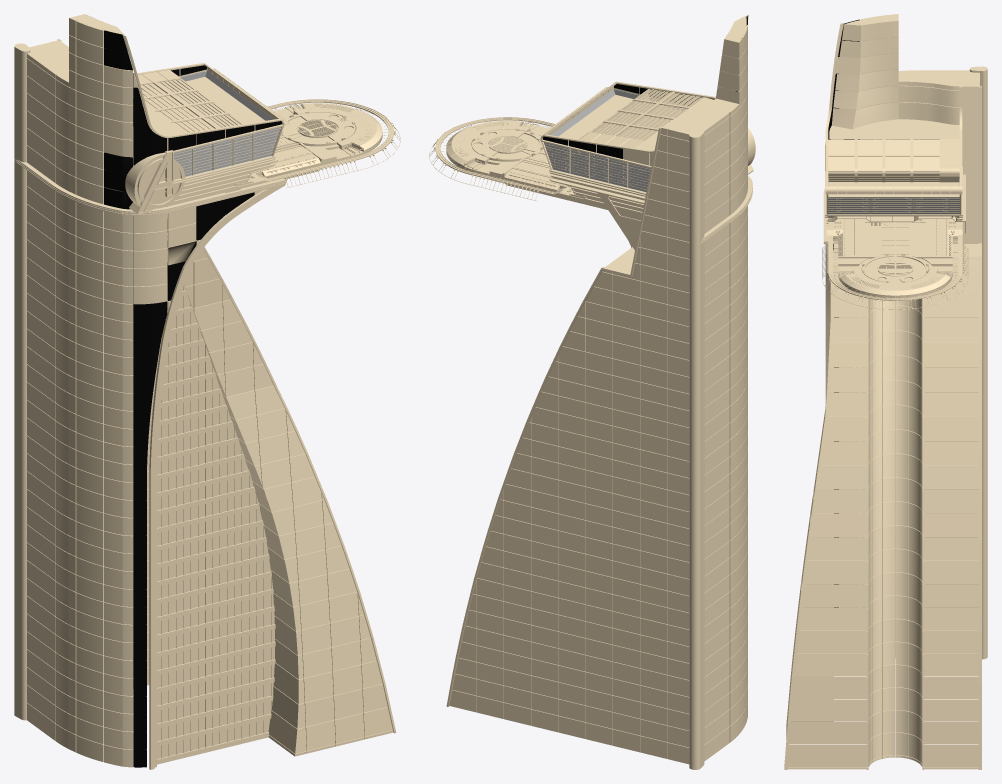
Rendered from Avengers Tower 001.fbx.
3 renders of one model, left to right at view 1: azimuth 30°, elevation 25°; view 2: azimuth 150°, elevation 25°; view 3: azimuth 270°, elevation 25°, orthographic. The views are drawn at different scales.
Visible parts, largest first — view 1: Shape174, Rectangle021, Shape183, Shape184, Shape219, Shape186, Shape160, Shape198, Shape165, Shape221, Rectangle023, Mesh006 (+12 smaller); view 2: Rectangle023, Shape174, Shape219, Shape221, Shape195, Shape160, Shape200, Shape198, Shape201, Shape155, Mesh006, Shape021 (+5 smaller); view 3: Shape195, Shape189, Shape221, Shape160, Shape219, Shape198, Shape186, Mesh001, Shape174, Shape155, Shape060, Shape021 (+17 smaller).
Boxes of the visible parts, bbox=[...] form: Shape174: bbox=[27, 17, 281, 767]; Rectangle021: bbox=[184, 249, 393, 756]; Shape183: bbox=[157, 285, 275, 764]; Shape184: bbox=[157, 287, 274, 758]; Shape219: bbox=[14, 43, 30, 720]; Shape186: bbox=[149, 177, 396, 769]; Shape160: bbox=[138, 79, 243, 140]; Shape198: bbox=[122, 35, 284, 175]; Shape165: bbox=[174, 127, 280, 176]; Shape221: bbox=[28, 14, 184, 135]; Rectangle023: bbox=[29, 40, 206, 688]; Mesh006: bbox=[133, 77, 277, 156]; Rectangle023: bbox=[449, 127, 689, 764]; Shape174: bbox=[614, 16, 747, 761]; Shape219: bbox=[689, 130, 704, 769]; Shape221: bbox=[635, 16, 746, 150]; Shape195: bbox=[446, 119, 671, 706]; Shape160: bbox=[590, 89, 703, 140]; Shape200: bbox=[544, 142, 650, 191]; Shape198: bbox=[540, 14, 748, 189]; Shape201: bbox=[549, 169, 646, 209]; Shape155: bbox=[578, 89, 690, 154]; Mesh006: bbox=[555, 94, 681, 169]; Shape021: bbox=[435, 118, 580, 201]; Shape195: bbox=[787, 86, 981, 769]; Shape189: bbox=[866, 298, 924, 769]; Shape221: bbox=[829, 14, 978, 139]; Shape160: bbox=[828, 139, 939, 181]; Shape219: bbox=[969, 66, 987, 659]; Shape198: bbox=[825, 23, 962, 215]; Shape186: bbox=[784, 241, 833, 769]; Mesh001: bbox=[828, 197, 959, 214]; Shape174: bbox=[828, 14, 978, 657]; Shape155: bbox=[828, 139, 959, 182]; Shape060: bbox=[853, 219, 937, 256]; Shape021: bbox=[828, 235, 962, 300].
Size of what is drawn, in the model's own units: 79914 by 172010 by 49239.
